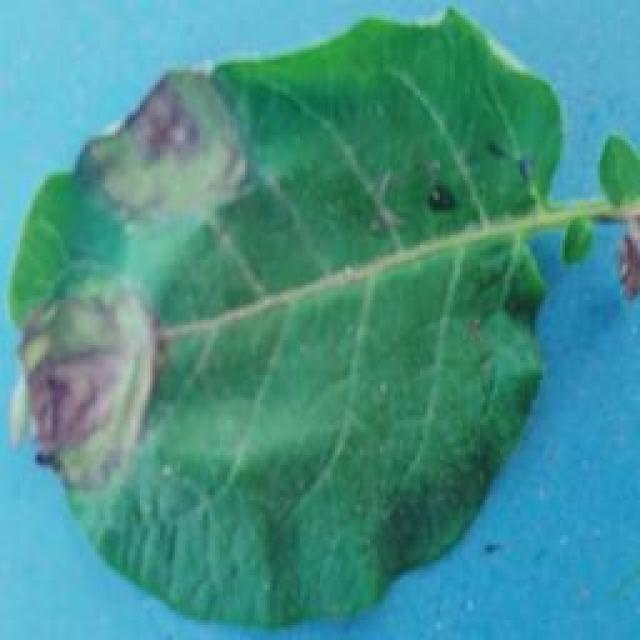Potato_Late_Blight: (14, 18, 574, 624)
